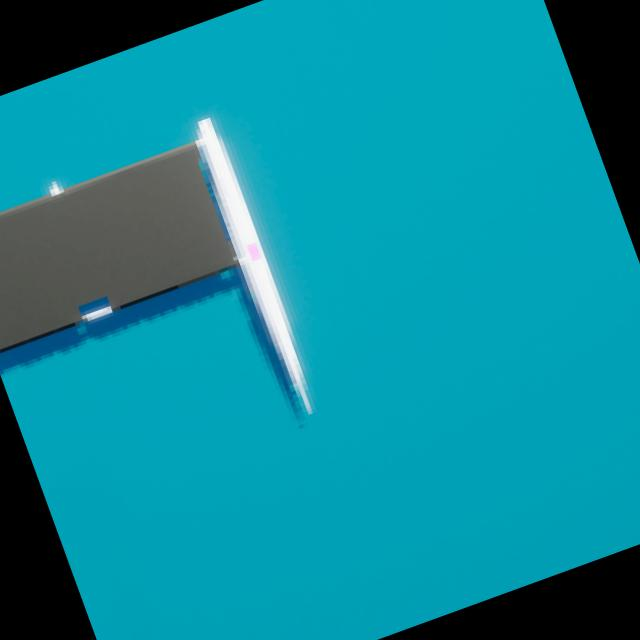boat: (0, 102, 345, 522)
drone: (0, 149, 234, 352)
